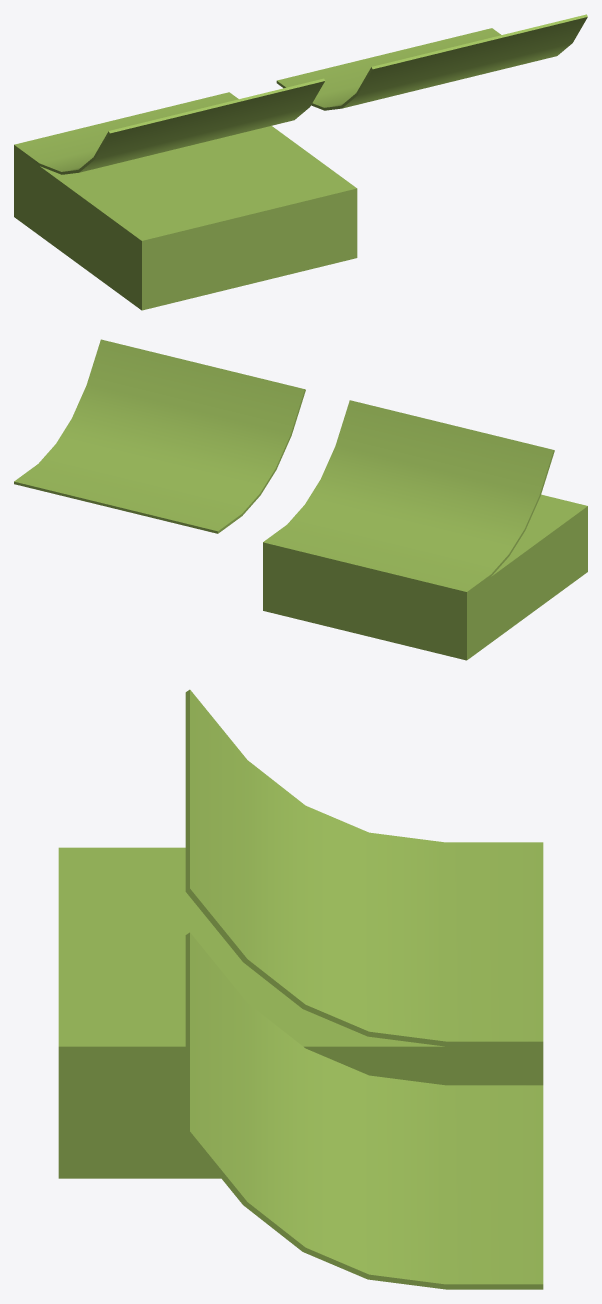
File: post it note.fbx
3 renders of one model, top to bottom at view 1: azimuth 30°, elevation 25°; view 2: azimuth 150°, elevation 25°; view 3: azimuth 270°, elevation 25°, orthographic. The views are drawn at different scales.
Parts seen in each view (by area): view 1: peeling_note2, peeling_note1; view 2: peeling_note2, peeling_note1; view 3: peeling_note2, peeling_note1.
Part boxes in pixels (x1,y1,x2,y2): peeling_note2: (14, 78, 357, 310); peeling_note1: (276, 14, 587, 110); peeling_note2: (263, 400, 587, 660); peeling_note1: (14, 339, 305, 533); peeling_note2: (58, 689, 543, 1178); peeling_note1: (185, 932, 543, 1289).
Size of the model in its own units: 16.75 by 5.13 by 7.73.
